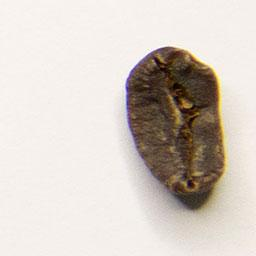defect: (117, 39, 235, 204)
